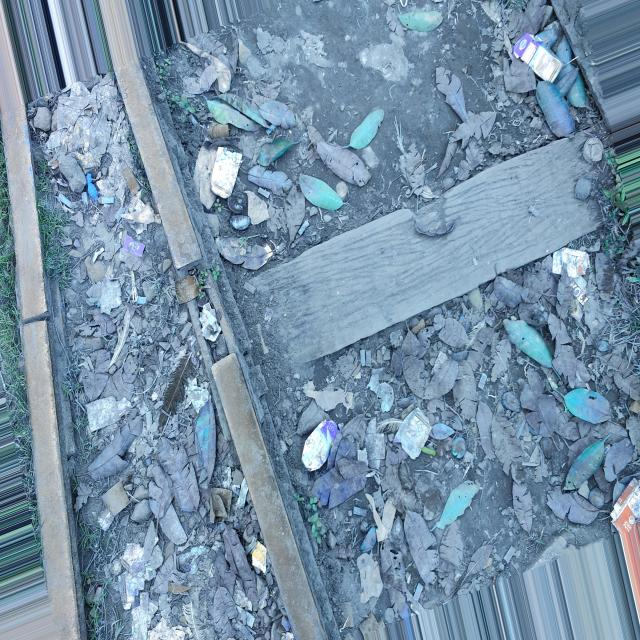crack: (7, 276, 48, 343)
